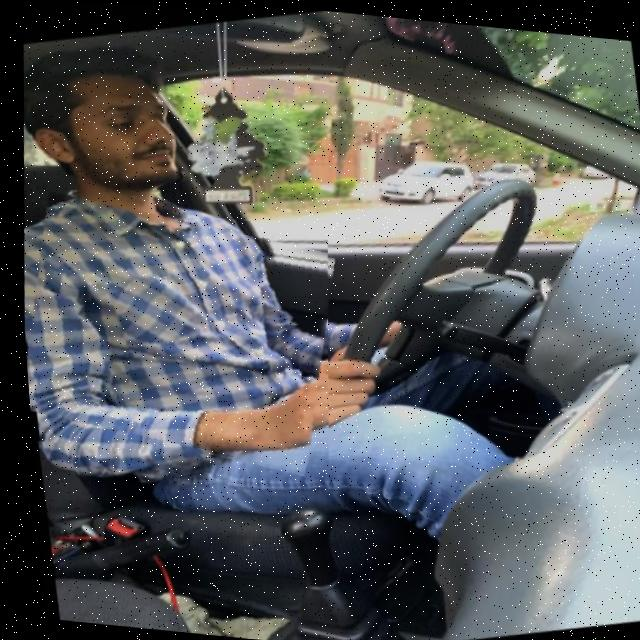no-seatbelt: (11, 197, 337, 466)
